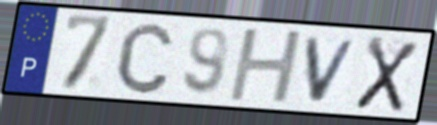7: (62, 11, 117, 94)
9: (181, 27, 233, 98)
C: (113, 19, 177, 97)
H: (226, 27, 306, 104)
V: (303, 35, 362, 105)
X: (351, 34, 421, 115)
